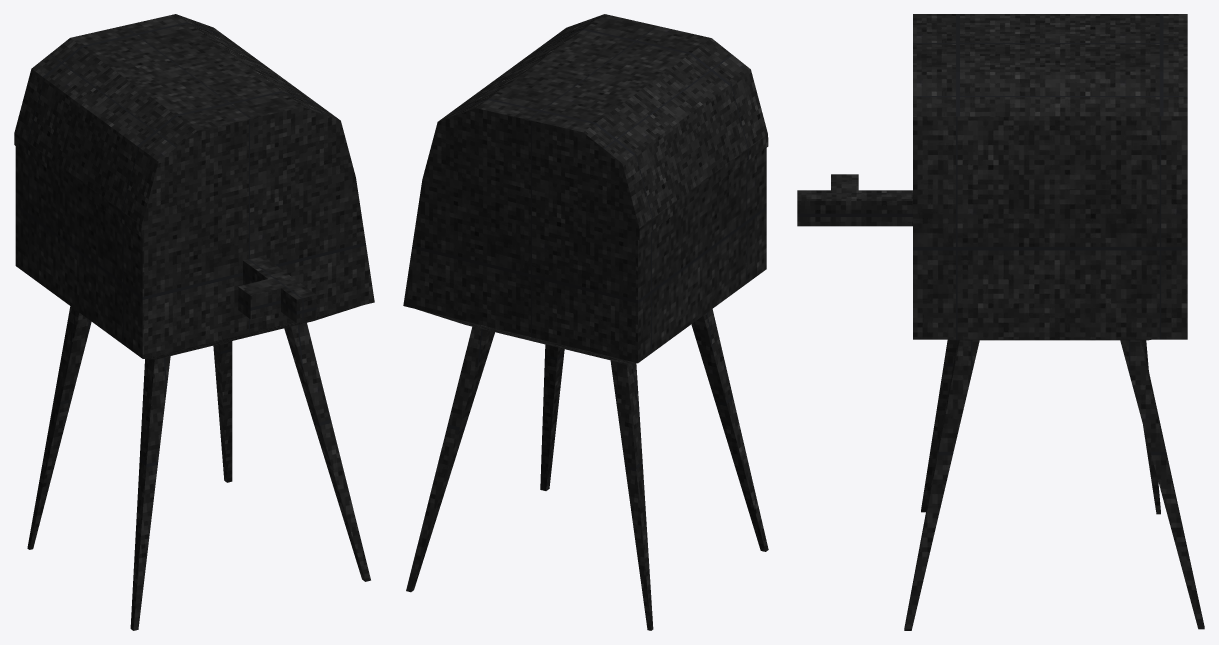
Rendered from BGN_GRILL(CLOSED.fbx.
The picture shows the model from 3 angles, left to right: view 1: azimuth 30°, elevation 25°; view 2: azimuth 150°, elevation 25°; view 3: azimuth 270°, elevation 25°; orthographic projection. The views are drawn at different scales.
Parts seen in each view (by area): view 1: BGN_GRILL_CLOSED; view 2: BGN_GRILL_CLOSED; view 3: BGN_GRILL_CLOSED.
Boxes of the visible parts, bbox=[...] form: BGN_GRILL_CLOSED: bbox=[14, 14, 374, 630]; BGN_GRILL_CLOSED: bbox=[403, 14, 768, 630]; BGN_GRILL_CLOSED: bbox=[797, 14, 1204, 630].
Bounding box in the file's own units: 146 × 286 × 200.
